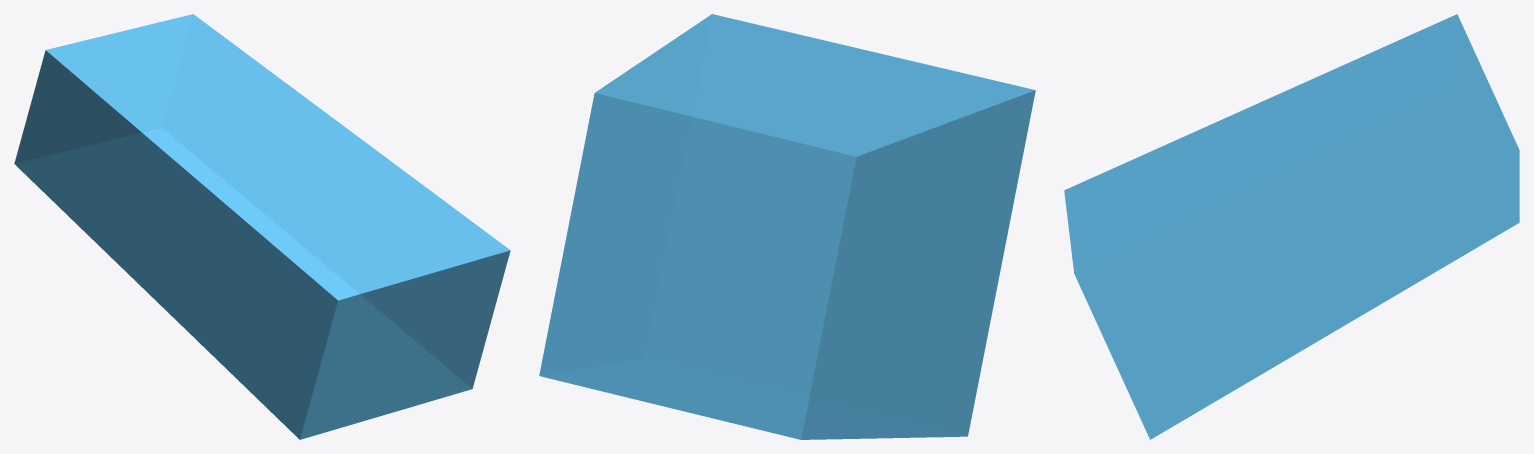
The model's file is Event_421556567_HBrechit_17.fbx.
3 renders of one model, left to right at view 1: azimuth 30°, elevation 25°; view 2: azimuth 150°, elevation 25°; view 3: azimuth 270°, elevation 25°, orthographic. The views are drawn at different scales.
Parts seen in each view (by area): view 1: Model; view 2: Model; view 3: Model.
Boxes of the visible parts, x1,y1,x2,y2 form: Model: (14,14,510,439); Model: (539,14,1035,439); Model: (1064,14,1519,439).
Bounding box in the file's own units: 0.7759 × 0.8064 × 1.12.
